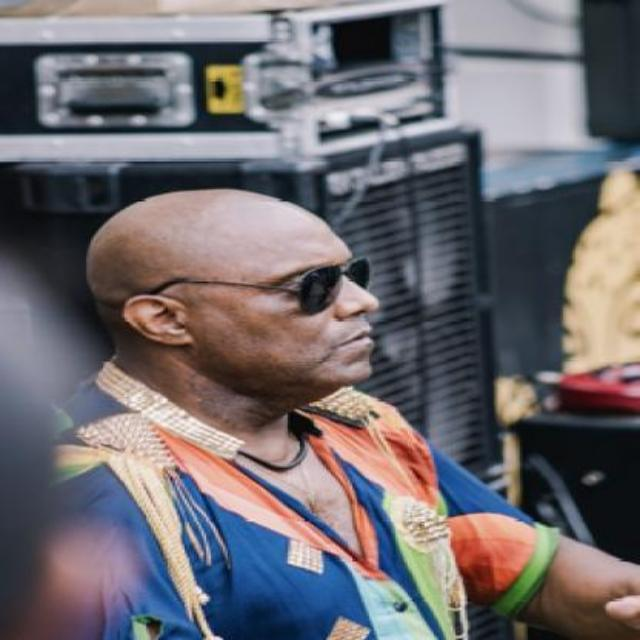sunglasses: (146, 258, 370, 312)
